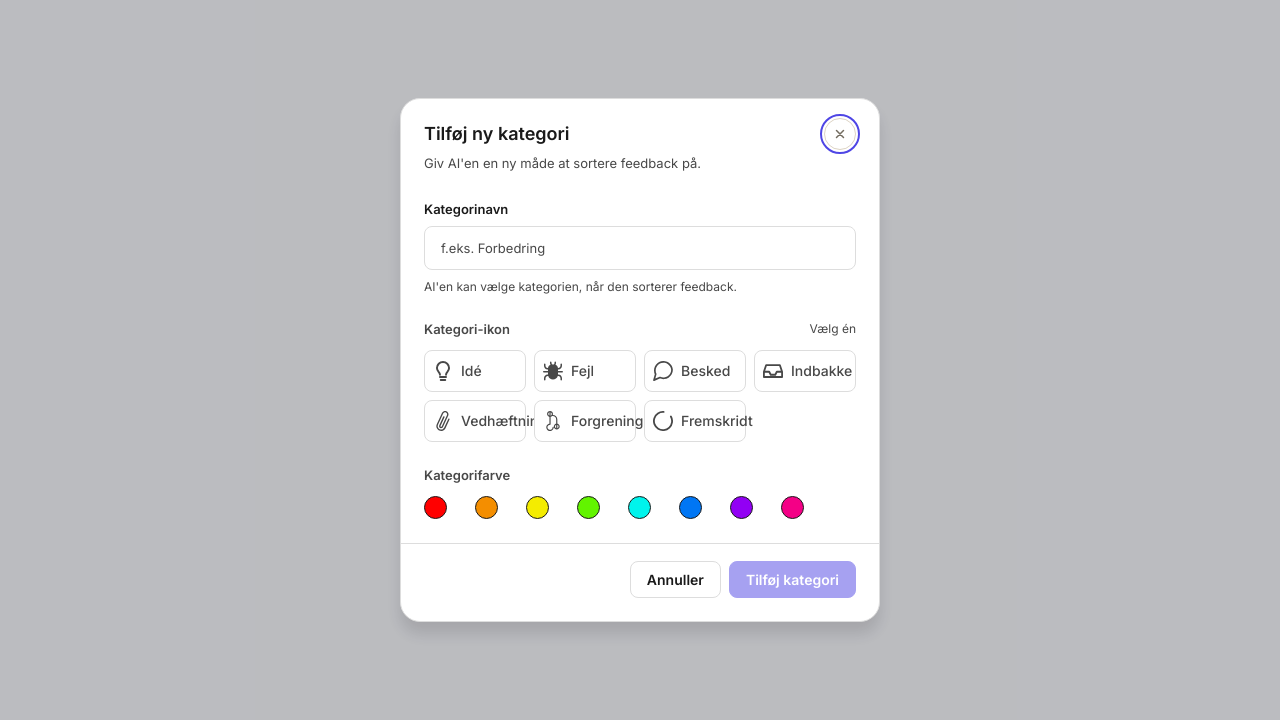
Scenario: AddCategoryModal – adding (US1) › keeps one icon and one colour chosen at a time (FR-021)
Click the 1st radio button labelled "Idé" at {"x": 475, "y": 371}, box x1=424 y1=350 x2=526 y2=392
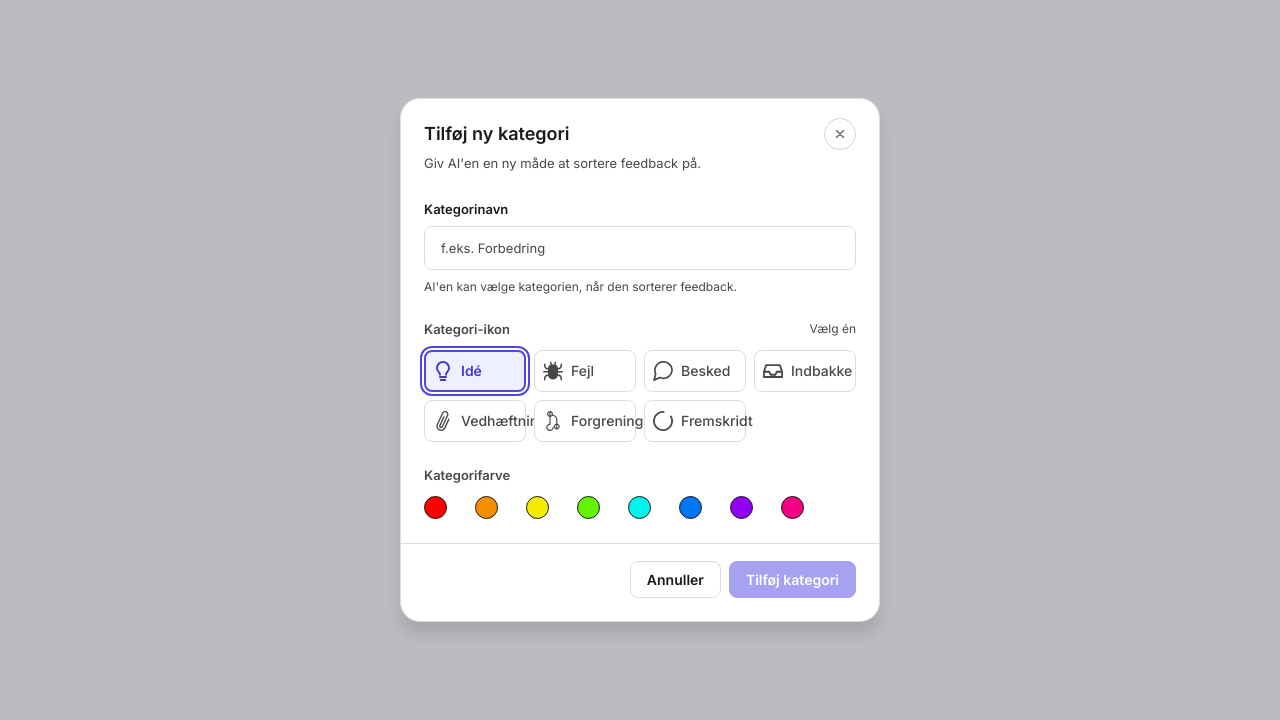
Click the 1st radio button labelled "Fejl" at {"x": 585, "y": 371}, box x1=534 y1=350 x2=636 y2=392
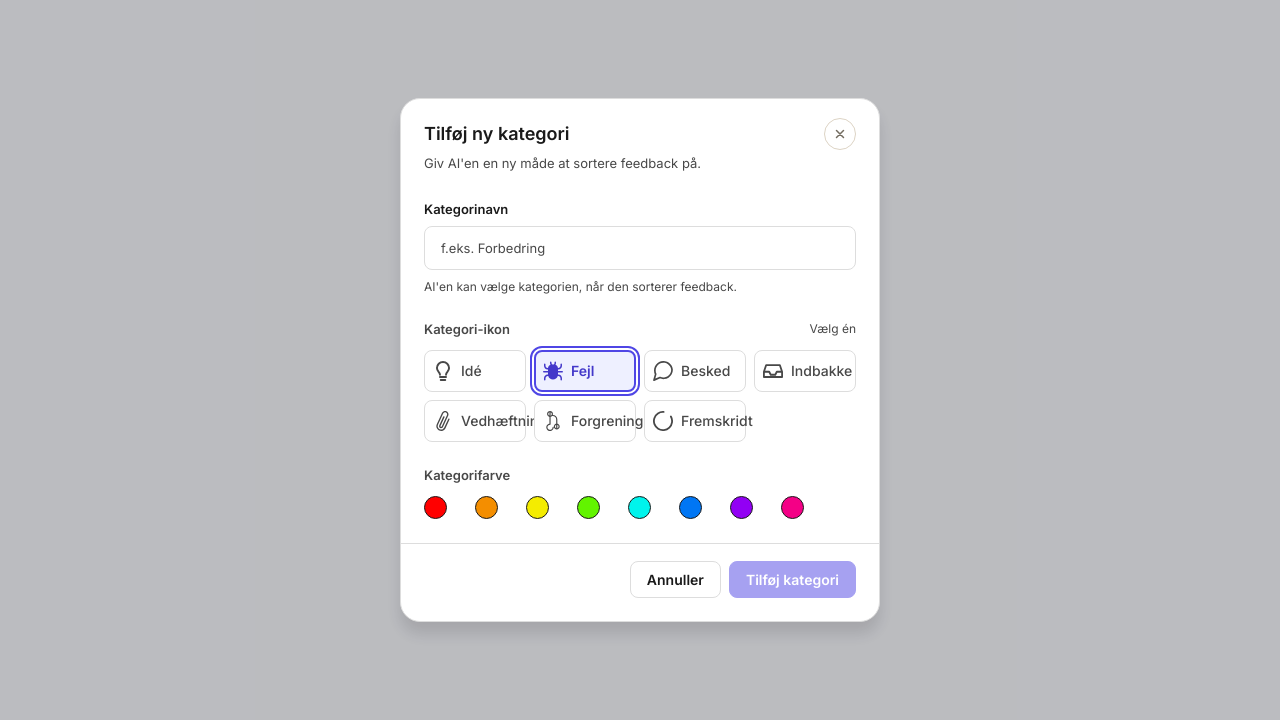
Expected: the 1st radio button labelled "Idé" is not checked, x1=424 y1=350 x2=526 y2=392
Expected: the 1st radio button labelled "Fejl" is checked, x1=534 y1=350 x2=636 y2=392
